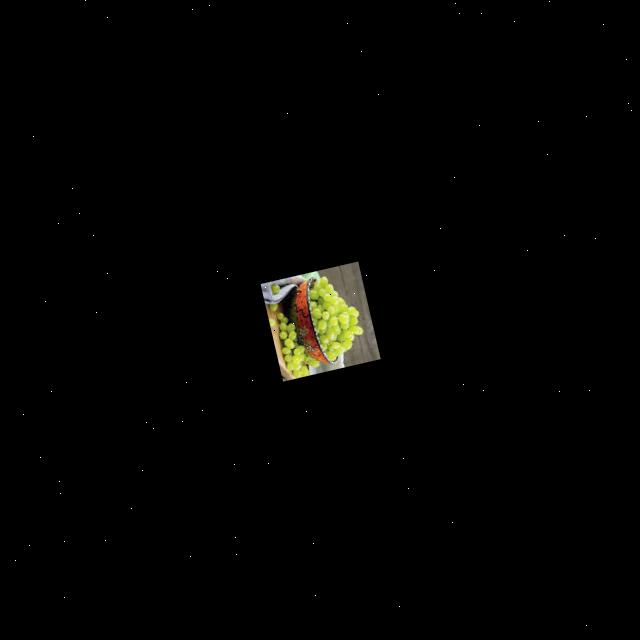grape: (303, 268, 369, 362)
